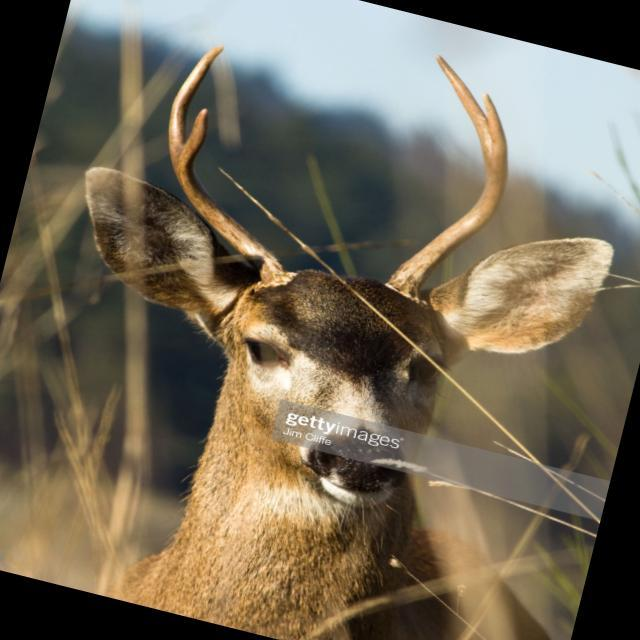R-F: (168, 45, 290, 284)
R-G1: (183, 108, 208, 163)
